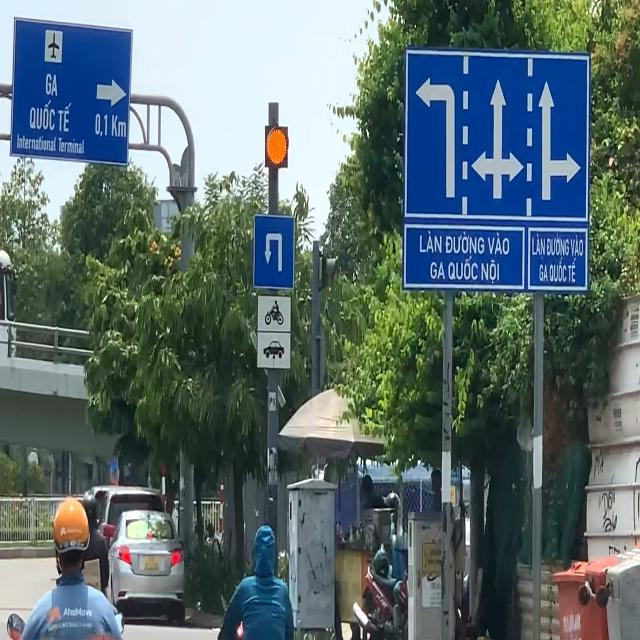R.409: (253, 215, 295, 289)
